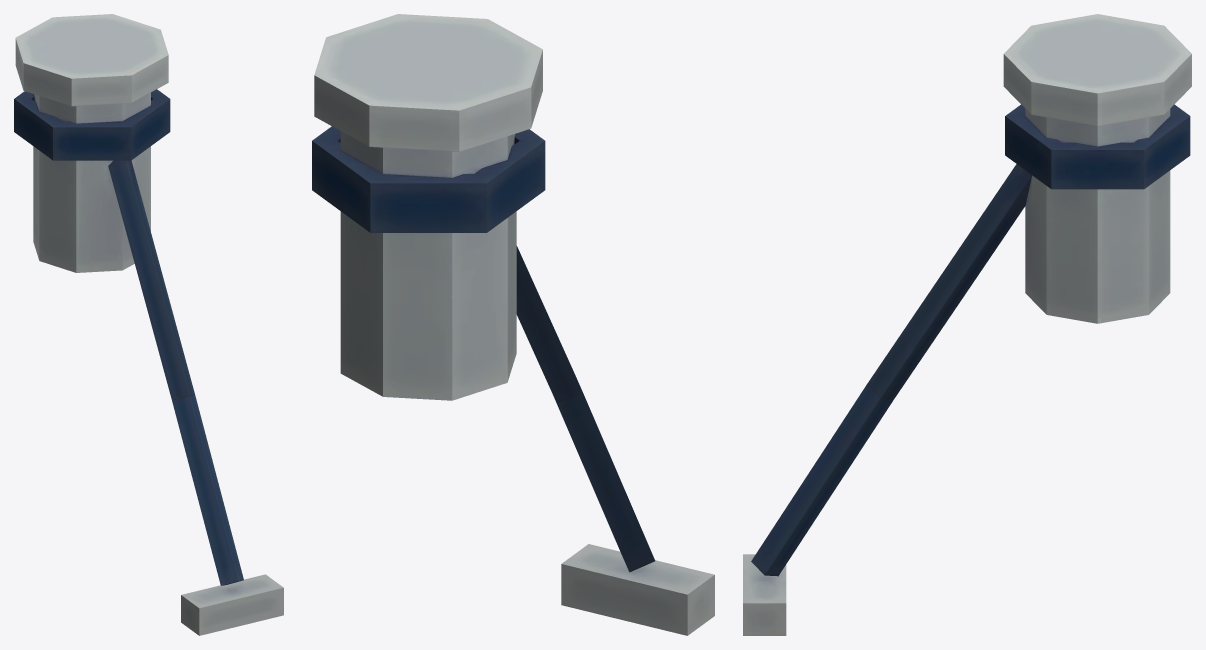
The model's file is raft-moor-age20.glb.
3 views of the same model, side by side, from view 1: azimuth 30°, elevation 25°; view 2: azimuth 150°, elevation 25°; view 3: azimuth 270°, elevation 25° (orthographic). The views are drawn at different scales.
Parts seen in each view (by area): view 1: raft-moor-age20; view 2: raft-moor-age20; view 3: raft-moor-age20.
Boxes of the visible parts, box(x1,y1,x2,y2) form: raft-moor-age20: box(14, 14, 283, 635); raft-moor-age20: box(312, 14, 714, 635); raft-moor-age20: box(743, 14, 1191, 635).
Size of the model in its own units: 0.13 by 0.425 by 0.31.
Materials: 1 (1 with a texture image).
